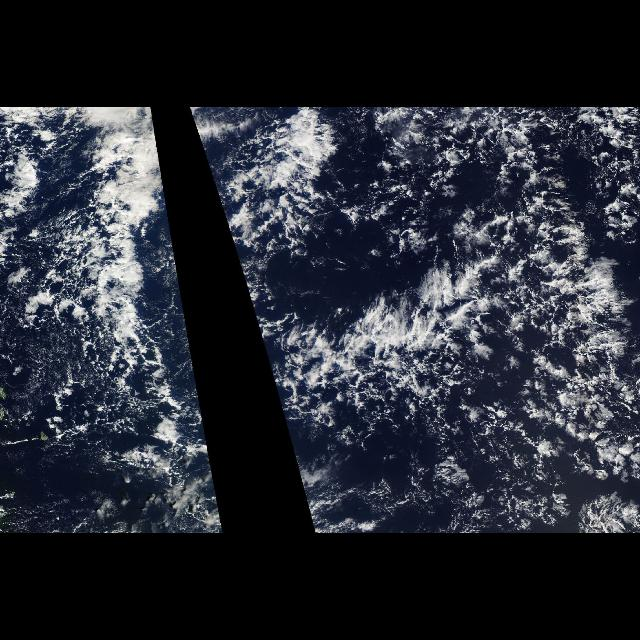Fish: (195, 128, 532, 430), (192, 358, 204, 429)
Gravel: (254, 107, 638, 531), (22, 200, 182, 436)
